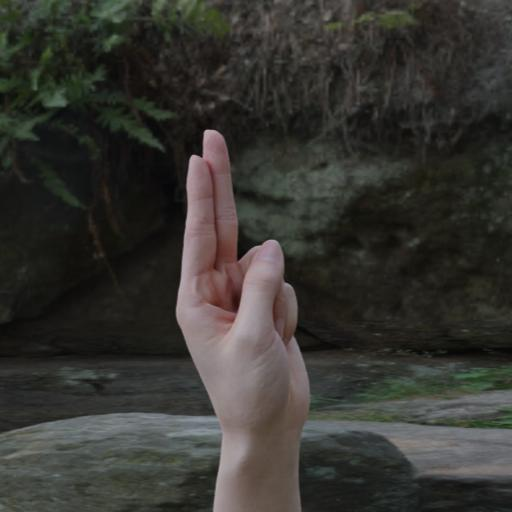U: (150, 114, 337, 504)
